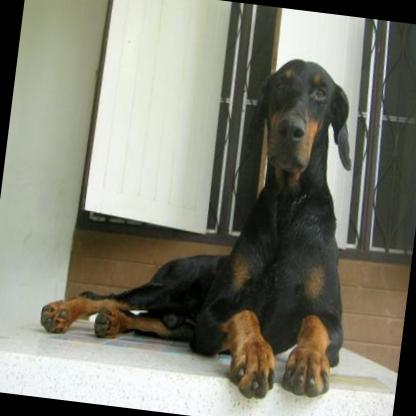Doberman: (33, 29, 376, 408)
